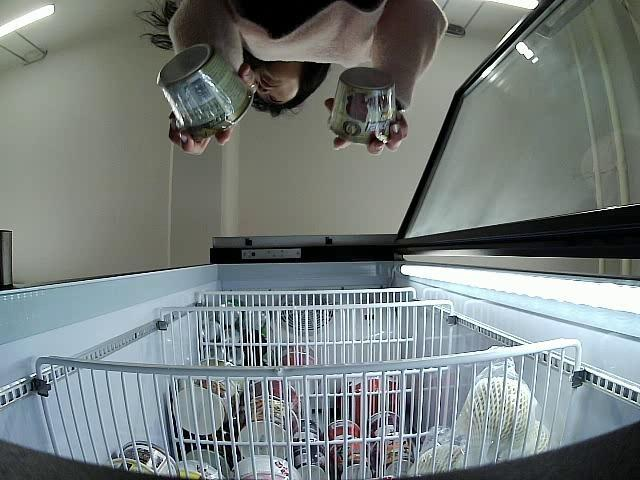04_chapagetti_S: (154, 42, 253, 136), (330, 66, 400, 145)
